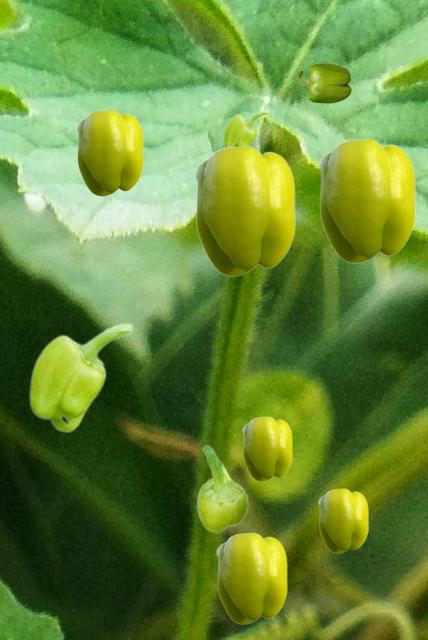bell_pepper: (194, 145, 294, 275), (318, 138, 414, 262), (28, 322, 133, 432), (216, 532, 286, 623), (76, 109, 142, 195), (196, 445, 248, 532), (242, 416, 291, 480), (318, 488, 367, 552), (297, 63, 350, 102), (223, 109, 268, 146)
